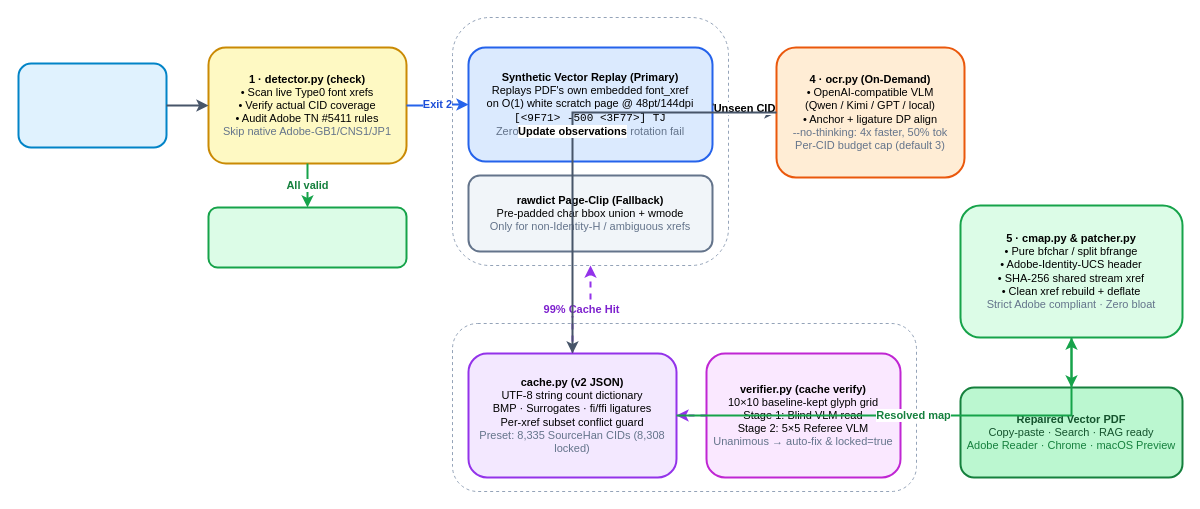
Image size: 1200x509. Some labels were removed from this diagram. The box of each missing label's shape, as (x1, y1, x2, y2) in pixels:
2 · Two-Tier Span Renderer (renderer.py): (452, 16, 728, 266)
3 · v2 Frequency Cache & 2-Model Contact-Sheet Verifier: (452, 322, 916, 492)
Exit 0 — Healthy PDF Instant skip (~5ms / issue): (207, 206, 407, 268)
Input Vector PDF Type0 / Identity-H·V Missing or broken CMap: (17, 62, 167, 148)
